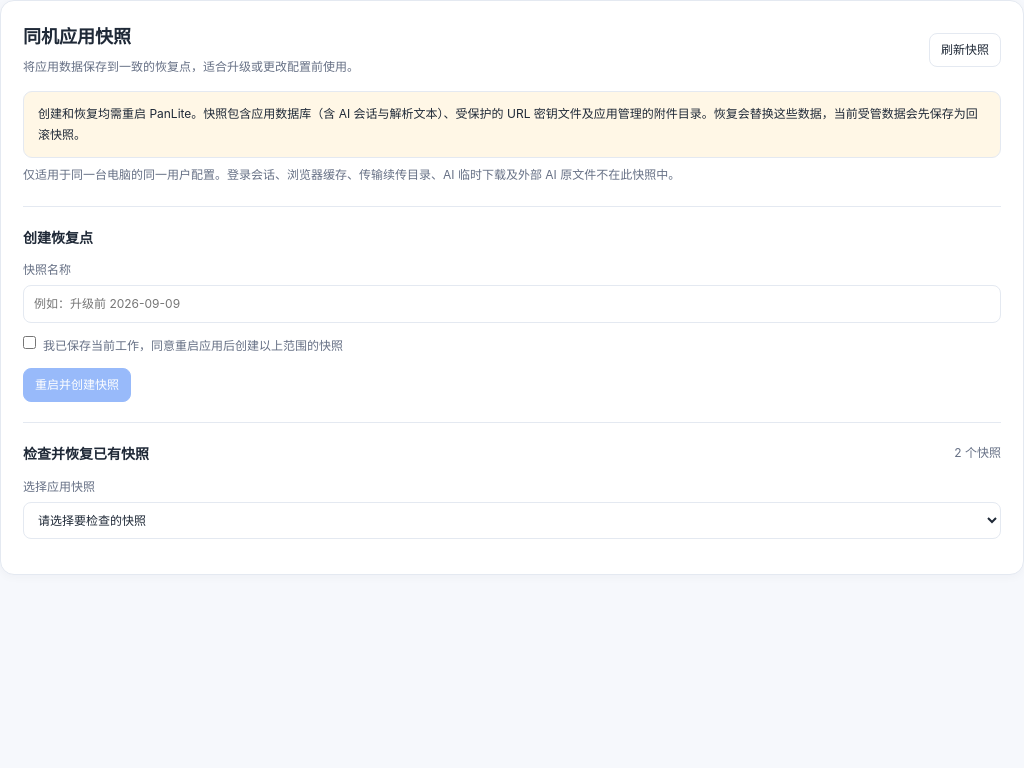
inspects the exact snapshot, displays replacement scope and submits only confirmed restoration
Select "升级前 · 2026/9/15 05:54:26 · 可检查" in the dropdown named "选择应用快照" at (512, 520), box [23,502,1001,539]
(page scrolled)
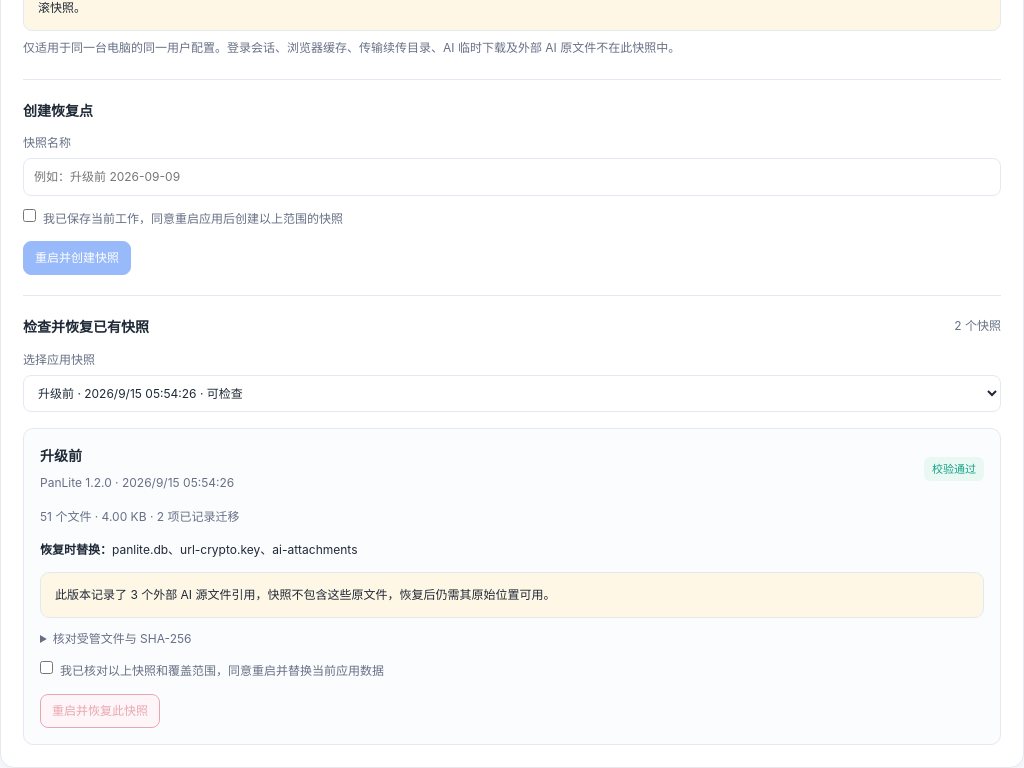
expect the element with class "snapshot-inspection" shows "panlite.db、url-crypto.key、ai-attachments": met, box [112,542,358,556]
expect the text "3 个外部 AI 源文件引用" is shown: met, box [55,587,555,602]
expect the button "重启并恢复此快照" is disabled: met, box [40,694,160,728]
Click the checkbox named "确认覆盖并重启恢复应用快照".
click(46, 668)  # box [40,661,53,674]
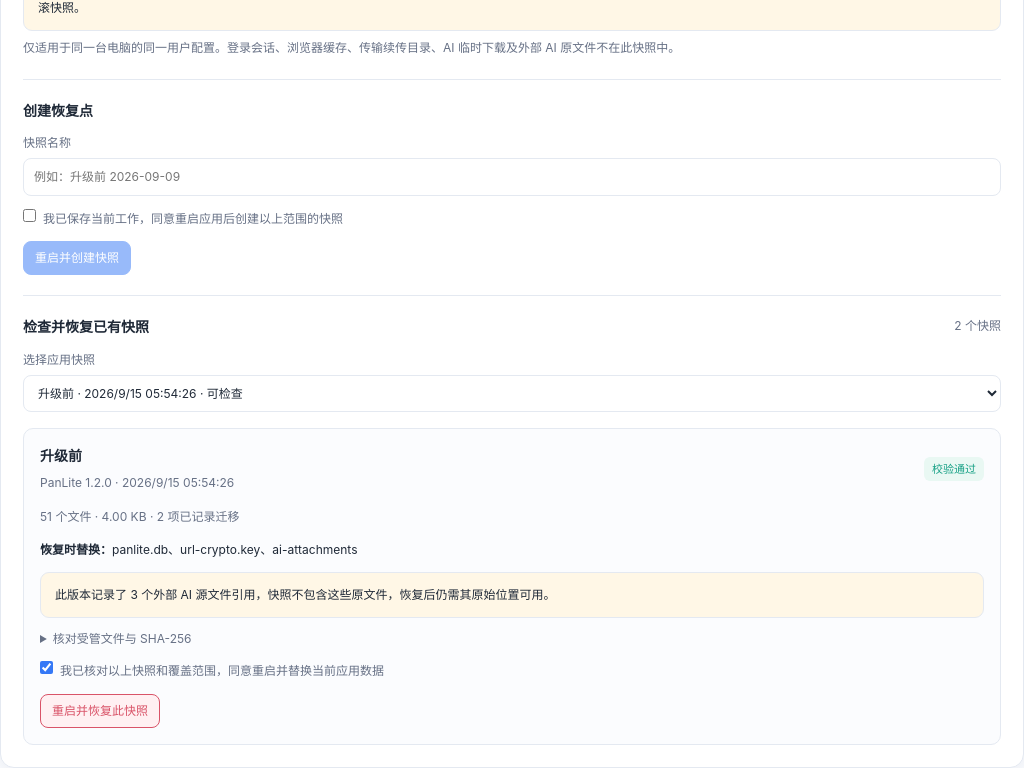
Click the button "重启并恢复此快照".
click(100, 710)  # box [40,694,160,728]
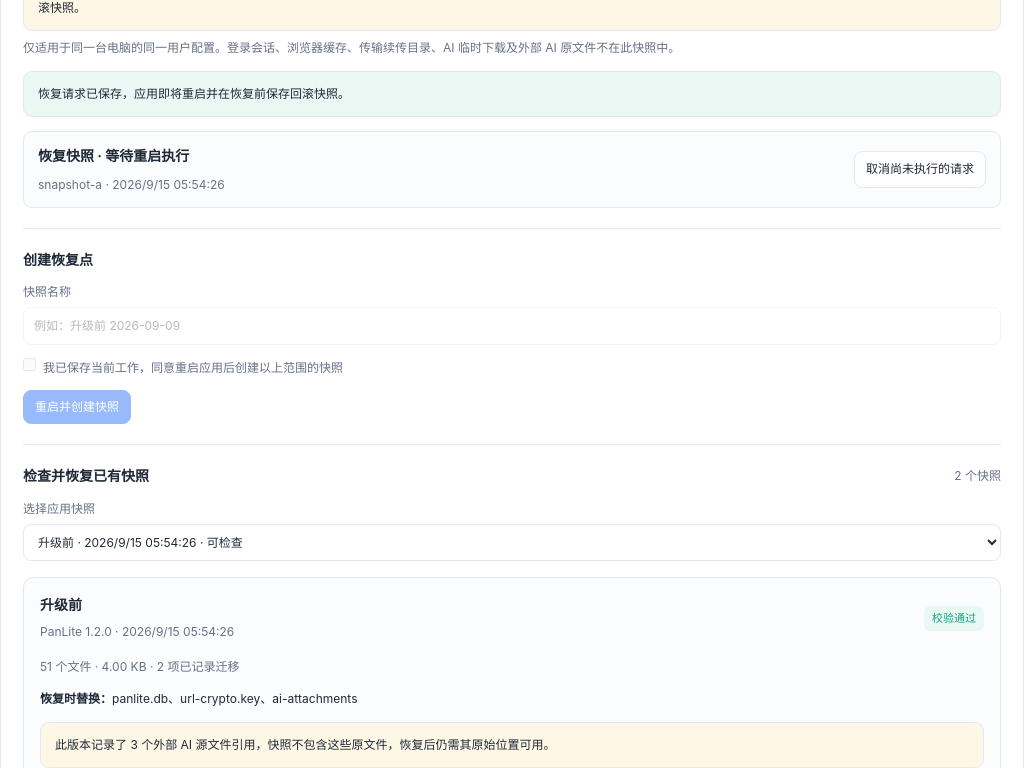
expect the text "恢复请求已保存" is shown: met, box [38,86,350,101]
